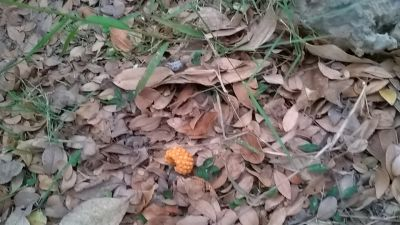eggs: (164, 146, 193, 175)
